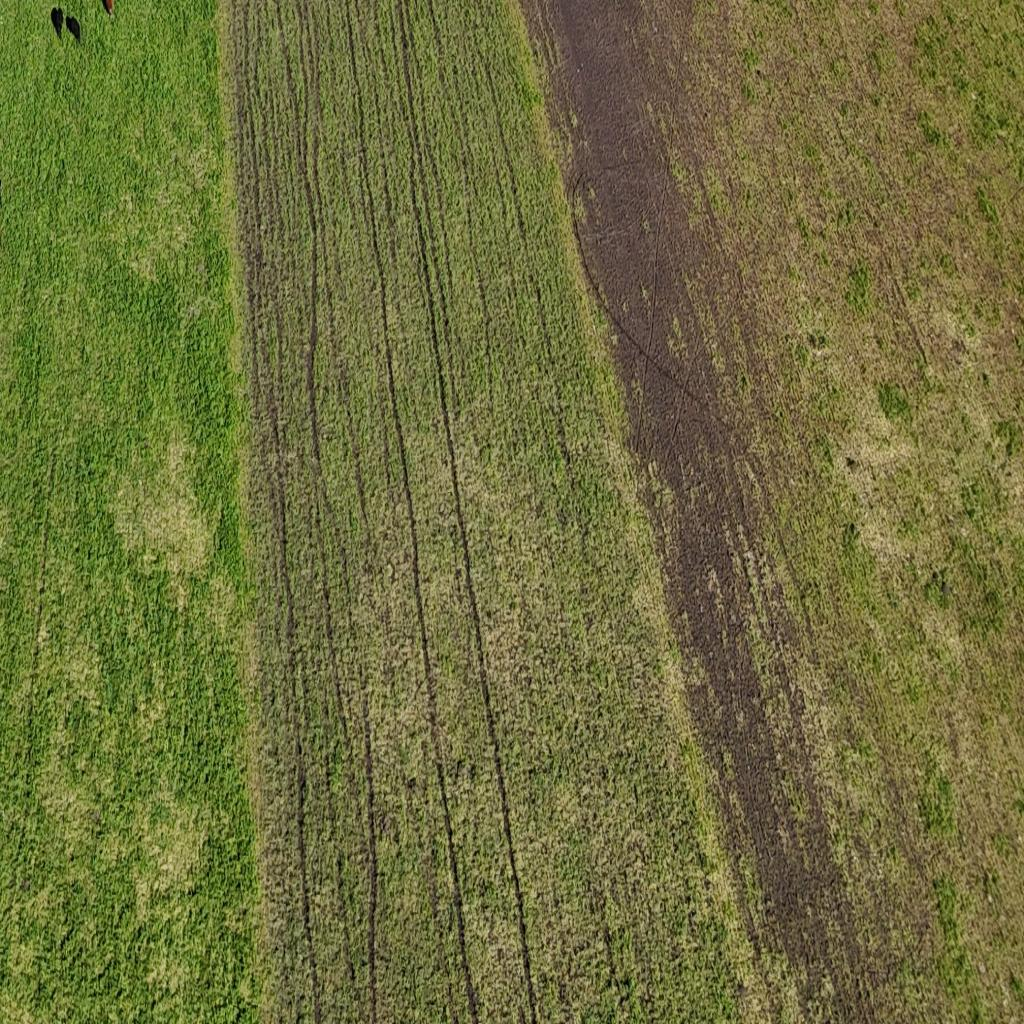cow: (50, 6, 64, 38), (70, 15, 82, 43), (100, 0, 114, 22)
